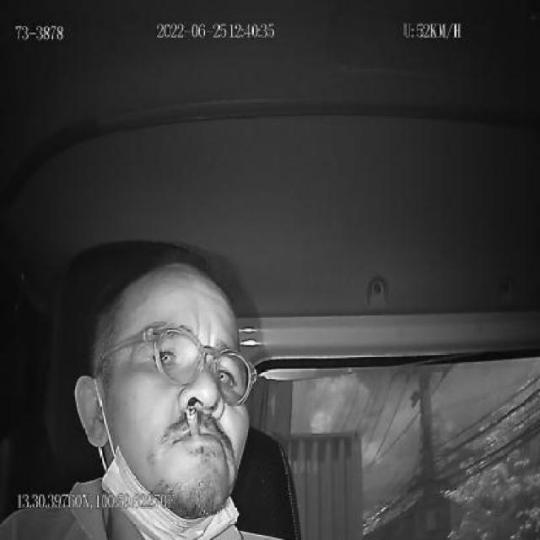smoking: (184, 403, 201, 439)
